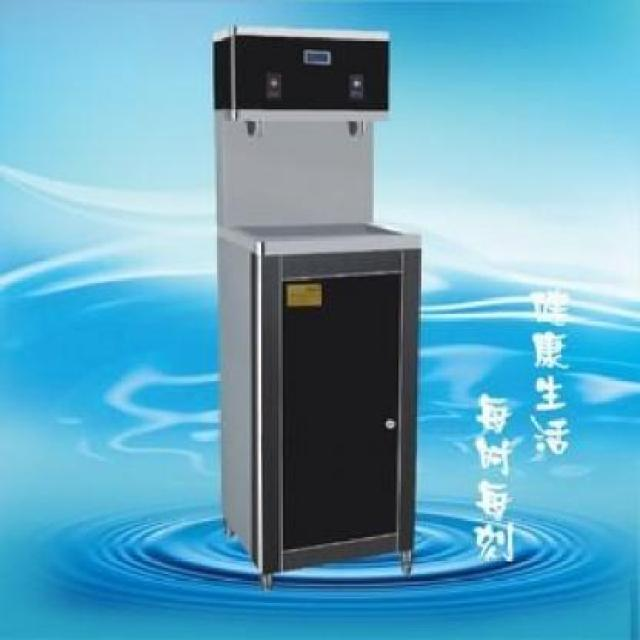cooler: (214, 22, 417, 590)
